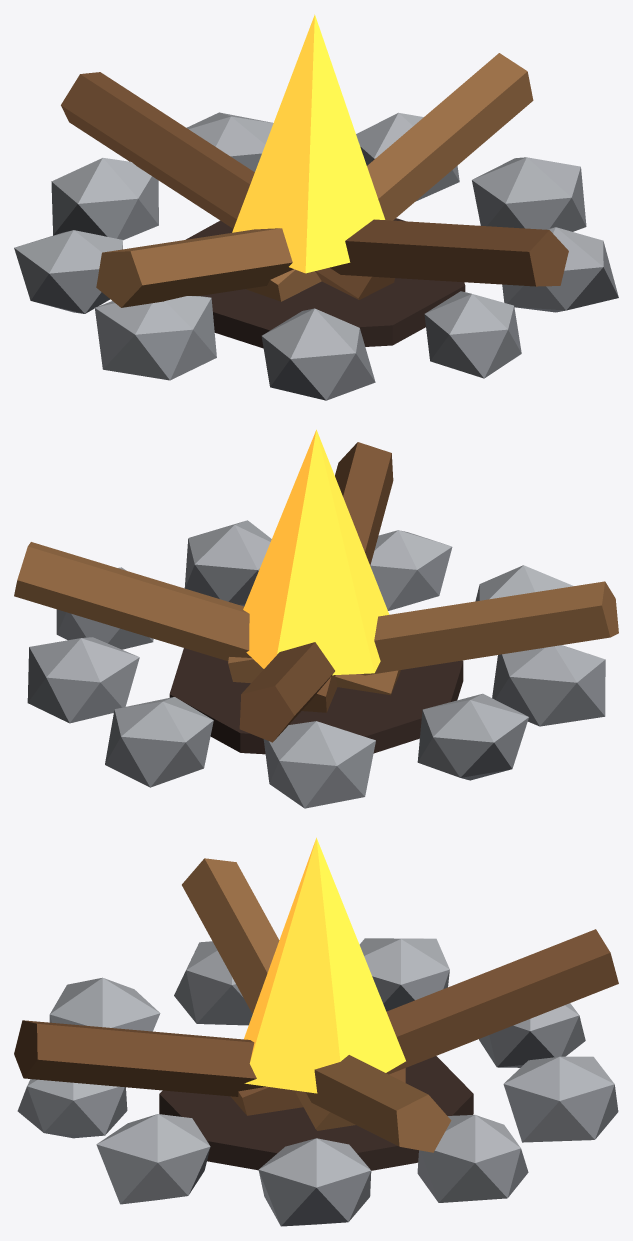
The model's file is Campfire.fbx.
3 views of the same model, one above another, from view 1: azimuth 30°, elevation 25°; view 2: azimuth 150°, elevation 25°; view 3: azimuth 270°, elevation 25° (orthographic). The views are drawn at different scales.
Visible parts, largest first — view 1: Campfire; view 2: Campfire; view 3: Campfire.
Boxes of the visible parts, box(x1,y1,x2,y2) form: Campfire: box(14, 14, 618, 400); Campfire: box(14, 429, 618, 808); Campfire: box(14, 837, 618, 1226).
Size of the model in its own units: 1.36 by 0.695 by 1.35.
1 material, 1 textured.
